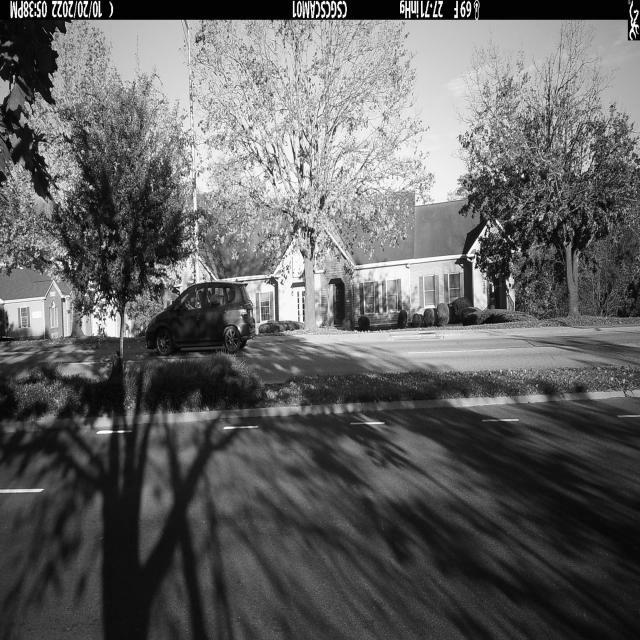Hatchback: (145, 281, 256, 356)
